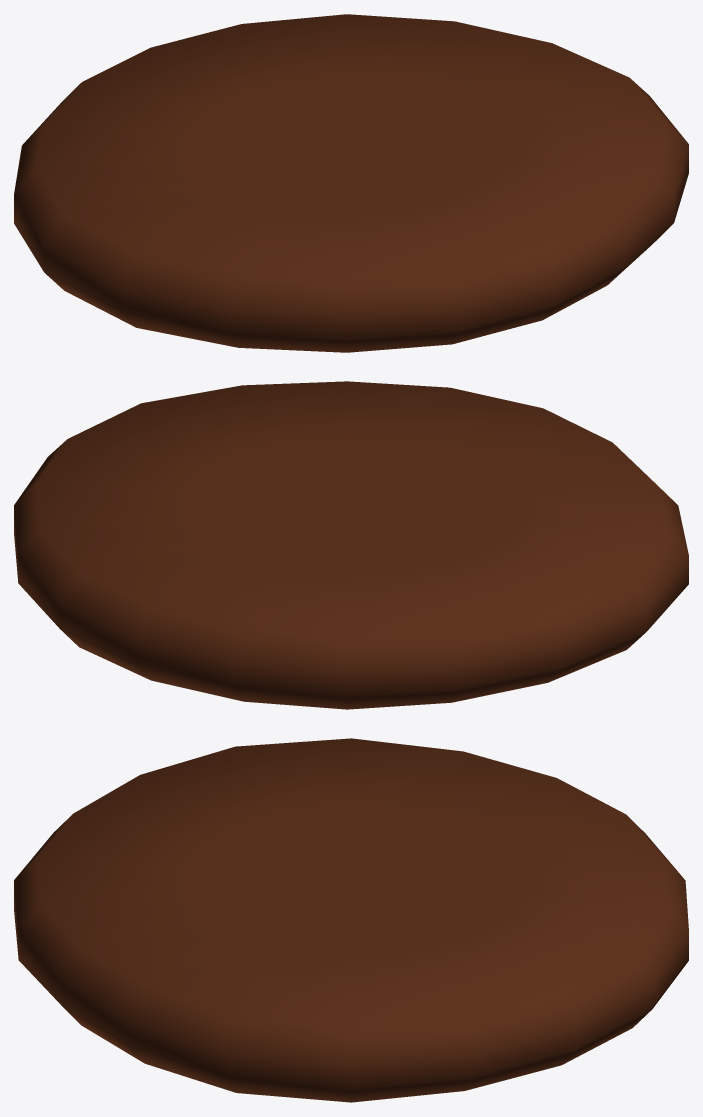
File: patty.glb
The picture shows the model from 3 angles, top to bottom: view 1: azimuth 30°, elevation 25°; view 2: azimuth 150°, elevation 25°; view 3: azimuth 270°, elevation 25°; orthographic projection. The views are drawn at different scales.
Visible parts, largest first — view 1: patty; view 2: patty; view 3: patty.
Boxes of the visible parts, x1,y1,x2,y2 form: patty: [14, 14, 688, 352]; patty: [14, 381, 688, 709]; patty: [14, 738, 688, 1102].
Size of the model in its own units: 10.92 by 1.33 by 10.17.
